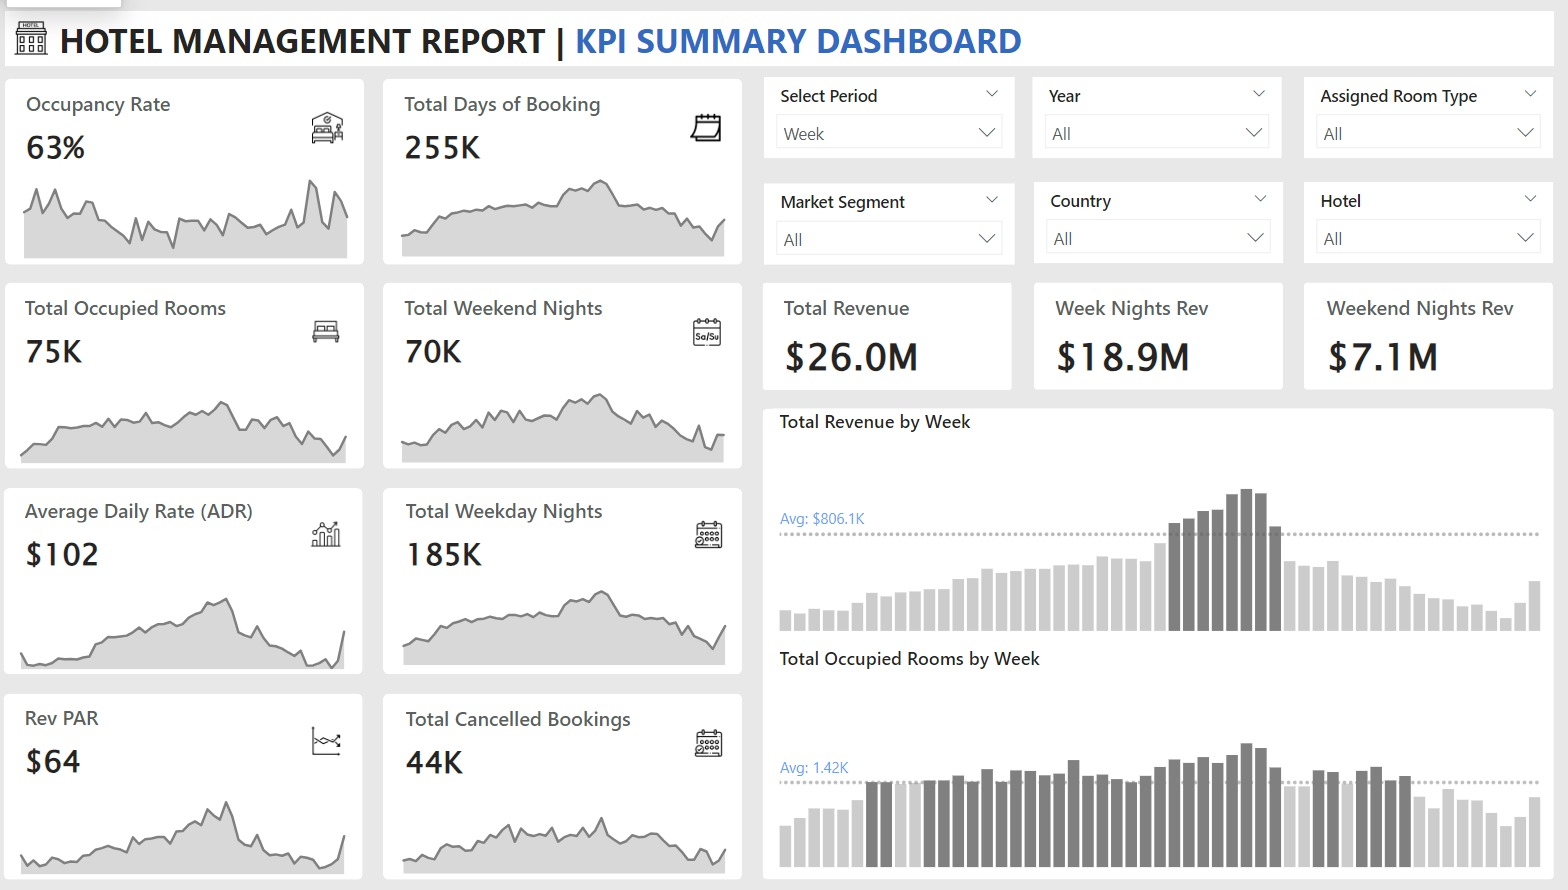

This screenshot's page, from the dashboard's own definition file:
{"tool":"powerbi","page":{"name":"KPI SUMMARY DASHBOARD","canvas":[1280,720],"ordinal":0},"visuals":[{"type":"cardVisual","fields":{"Data":["hotel data.Total Occupied Rooms"]},"box":[13.2,219.7,289.4,85.3],"z":0,"group":"g4"},{"type":"cardVisual","fields":{"Data":["hotel data.Total Weekend Nights"]},"box":[319.4,219.7,289.4,84.1],"z":0,"group":"g6"},{"type":"cardVisual","fields":{"Data":["hotel data.Total Weekday Nights"]},"box":[320.1,383.3,289.4,85.3],"z":0,"group":"g5"},{"type":"shape","box":[319.4,559.5,289.4,150.1],"z":0},{"type":"cardVisual","fields":{"Data":["hotel data.Occupancy Rate"]},"box":[14.6,56,289.7,85.8],"z":500,"group":"g1"},{"type":"shape","box":[14.4,63.6,289.4,150.1],"z":1000},{"type":"areaChart","fields":{"Category":["Date Table.Week"],"Y":["hotel data.Total Occupied Rooms"]},"box":[11.7,296.9,291.5,81.9],"z":1000,"group":"g4"},{"type":"areaChart","fields":{"Category":["Date Table.Week"],"Y":["Sum(hotel data.Stays In Weekend Nights)"]},"box":[318.9,296.9,289,81.9],"z":1000,"group":"g6"},{"type":"areaChart","fields":{"Category":["Date Table.Week"],"Y":["hotel data.Total Weekday Nights"]},"box":[320.1,460.1,289,81.9],"z":1000,"group":"g5"},{"type":"areaChart","fields":{"Category":["Date Table.Week"],"Y":["hotel data.Occupancy Rate"]},"box":[14.3,127.6,290.3,86.8],"z":2000,"group":"g1"},{"type":"cardVisual","fields":{"Data":["hotel data.Occupancy Rate"]},"box":[851.1,317.1,289.7,85.8],"z":2000},{"type":"cardVisual","fields":{"Data":["hotel data.Total Cancelled Bookings"]},"box":[320,550.4,289.3,85.8],"z":3000},{"type":"areaChart","fields":{"Category":["Date Table.Week"],"Y":["hotel data.Total Cancelled Bookings"]},"box":[320.1,630.2,289,79.4],"z":4000},{"type":"slicer","fields":{"Values":["Date Table.Year"]},"box":[842.6,62.7,200.6,65.2],"z":5000},{"type":"slicer","fields":{"Values":["Select Period.Select Period"]},"box":[625.7,62.7,201.9,65.2],"z":6000},{"type":"cardVisual","fields":{"Data":["hotel data.Average Daily Rate (ADR)"]},"box":[13.2,383,289.4,85.3],"z":6000,"group":"g2"},{"type":"shape","box":[14.4,228.1,289.4,150.1],"z":7000},{"type":"areaChart","fields":{"Category":["Date Table.Week"],"Y":["hotel data.Average Daily Rate (ADR)"]},"box":[12.1,458.6,290.3,85.6],"z":7000,"group":"g2"},{"type":"shape","box":[13.2,393.8,289.4,150.1],"z":8000},{"type":"shape","box":[319.4,63.6,289.4,150.1],"z":9000},{"type":"shape","box":[319.4,228.1,289.4,150.1],"z":10000},{"type":"group","id":"g1","title":"Group 2","box":[14.3,56,289.7,158.5],"z":11000},{"type":"shape","box":[625.2,228.3,201,86.8],"z":12000},{"type":"cardVisual","fields":{"Data":["hotel data.Rev PAR"]},"box":[13.2,549.9,289.4,85.3],"z":12000,"group":"g3"},{"type":"group","id":"g2","title":"Group 1","box":[12.1,383,290.5,161.2],"z":13000},{"type":"areaChart","fields":{"Category":["Date Table.Week"],"Y":["hotel data.Rev PAR"]},"box":[11.7,628.1,290.3,81.9],"z":13000,"group":"g3"},{"type":"shape","box":[13.2,559.5,289.4,150.1],"z":14000},{"type":"group","id":"g3","title":"Group 3","box":[11.7,549.9,290.9,160.1],"z":15000},{"type":"group","id":"g4","title":"Group 4","box":[11.7,219.7,291.5,159.1],"z":16000},{"type":"cardVisual","fields":{"Data":["hotel data.Total Booking Days"]},"box":[319.4,55.2,289.4,85.3],"z":17000,"group":"g7"},{"type":"shape","box":[842.9,228.1,200.5,86.5],"z":17000},{"type":"areaChart","fields":{"Category":["Date Table.Week"],"Y":["hotel data.Total Booking Days"]},"box":[319,131.7,289.5,81.4],"z":18000,"group":"g7"},{"type":"shape","box":[1061.5,228.1,200.5,86.5],"z":18000},{"type":"shape","box":[319.4,393.8,289.4,150.1],"z":19000},{"type":"group","id":"g5","title":"Group 5","box":[320.1,383.3,289,158.8],"z":20000},{"type":"group","id":"g6","title":"Group 6","box":[318.9,219.7,289.9,159.1],"z":21000},{"type":"group","id":"g7","title":"Group 7","box":[319,55.2,289.8,157.9],"z":22000},{"type":"cardVisual","fields":{"Data":["hotel data.Total Revenue"]},"box":[625.2,219.6,201,93],"z":23000},{"type":"cardVisual","fields":{"Data":["hotel data.Weekend Nights Rev"]},"box":[1061.6,219.8,201.2,93],"z":24000},{"type":"cardVisual","fields":{"Data":["hotel data.Week Nights Rev"]},"box":[843,219.8,201.2,93],"z":25000},{"type":"shape","box":[625.2,330,637.6,379.6],"z":26000},{"type":"shape","box":[14.5,10,1248,44.7],"z":27000},{"type":"columnChart","fields":{"Y":["hotel data.Total Occupied Rooms"],"Category":["Date Table.Week"]},"box":[632.9,520.2,622.9,184.2],"z":28000},{"type":"columnChart","fields":{"Y":["hotel data.Total Revenue"],"Category":["Date Table.Week"]},"box":[632.7,330,622.8,184.8],"z":29000},{"type":"textbox","box":[53.5,9.3,902.3,46.5],"z":30000},{"type":"slicer","fields":{"Values":["hotel data.Assigned Room Type"]},"box":[1060.8,62.7,200.6,65.2],"z":31000},{"type":"slicer","fields":{"Values":["hotel data.Market Segment"]},"box":[625.7,149.2,201.9,65.2],"z":32000},{"type":"slicer","fields":{"Values":["hotel data.Country"]},"box":[843.9,148,200.6,65.2],"z":33000},{"type":"slicer","fields":{"Values":["hotel data.Hotel"]},"box":[1060.8,148,200.6,65.2],"z":34000},{"type":"image","box":[16.7,12.3,36.8,39.1],"z":35000}]}

Visuals, with their boxes in screenshot pixels (x1, y1, x2, y2), scaled from the page's 1280x720 canvas onto the 1568x890 screenshot:
cardVisual - hotel data.Total Occupied Rooms: bbox(16, 272, 371, 377)
cardVisual - hotel data.Total Weekend Nights: bbox(391, 272, 746, 376)
cardVisual - hotel data.Total Weekday Nights: bbox(392, 474, 747, 579)
shape: bbox(391, 692, 746, 877)
cardVisual - hotel data.Occupancy Rate: bbox(18, 69, 373, 175)
shape: bbox(18, 79, 372, 264)
areaChart - Date Table.Week x hotel data.Total Occupied Rooms: bbox(14, 367, 371, 468)
areaChart - Date Table.Week x Sum(hotel data.Stays In Weekend Nights): bbox(391, 367, 745, 468)
areaChart - Date Table.Week x hotel data.Total Weekday Nights: bbox(392, 569, 746, 670)
areaChart - Date Table.Week x hotel data.Occupancy Rate: bbox(18, 158, 373, 265)
cardVisual - hotel data.Occupancy Rate: bbox(1043, 392, 1397, 498)
cardVisual - hotel data.Total Cancelled Bookings: bbox(392, 680, 746, 786)
areaChart - Date Table.Week x hotel data.Total Cancelled Bookings: bbox(392, 779, 746, 877)
slicer - Date Table.Year: bbox(1032, 78, 1278, 158)
slicer - Select Period.Select Period: bbox(766, 78, 1014, 158)
cardVisual - hotel data.Average Daily Rate (ADR): bbox(16, 473, 371, 579)
shape: bbox(18, 282, 372, 467)
areaChart - Date Table.Week x hotel data.Average Daily Rate (ADR): bbox(15, 567, 370, 673)
shape: bbox(16, 487, 371, 672)
shape: bbox(391, 79, 746, 264)
shape: bbox(391, 282, 746, 467)
"Group 2" group: bbox(18, 69, 372, 265)
shape: bbox(766, 282, 1012, 389)
cardVisual - hotel data.Rev PAR: bbox(16, 680, 371, 785)
"Group 1" group: bbox(15, 473, 371, 673)
areaChart - Date Table.Week x hotel data.Rev PAR: bbox(14, 776, 370, 878)
shape: bbox(16, 692, 371, 877)
"Group 3" group: bbox(14, 680, 371, 878)
"Group 4" group: bbox(14, 272, 371, 468)
cardVisual - hotel data.Total Booking Days: bbox(391, 68, 746, 174)
shape: bbox(1033, 282, 1278, 389)
areaChart - Date Table.Week x hotel data.Total Booking Days: bbox(391, 163, 745, 263)
shape: bbox(1300, 282, 1546, 389)
shape: bbox(391, 487, 746, 672)
"Group 5" group: bbox(392, 474, 746, 670)
"Group 6" group: bbox(391, 272, 746, 468)
"Group 7" group: bbox(391, 68, 746, 263)
cardVisual - hotel data.Total Revenue: bbox(766, 271, 1012, 386)
cardVisual - hotel data.Weekend Nights Rev: bbox(1300, 272, 1547, 387)
cardVisual - hotel data.Week Nights Rev: bbox(1033, 272, 1279, 387)
shape: bbox(766, 408, 1547, 877)
shape: bbox(18, 12, 1547, 68)
columnChart - hotel data.Total Occupied Rooms x Date Table.Week: bbox(775, 643, 1538, 871)
columnChart - hotel data.Total Revenue x Date Table.Week: bbox(775, 408, 1538, 636)
textbox: bbox(66, 11, 1171, 69)
slicer - hotel data.Assigned Room Type: bbox(1299, 78, 1545, 158)
slicer - hotel data.Market Segment: bbox(766, 184, 1014, 265)
slicer - hotel data.Country: bbox(1034, 183, 1280, 264)
slicer - hotel data.Hotel: bbox(1299, 183, 1545, 264)
image: bbox(20, 15, 66, 64)
